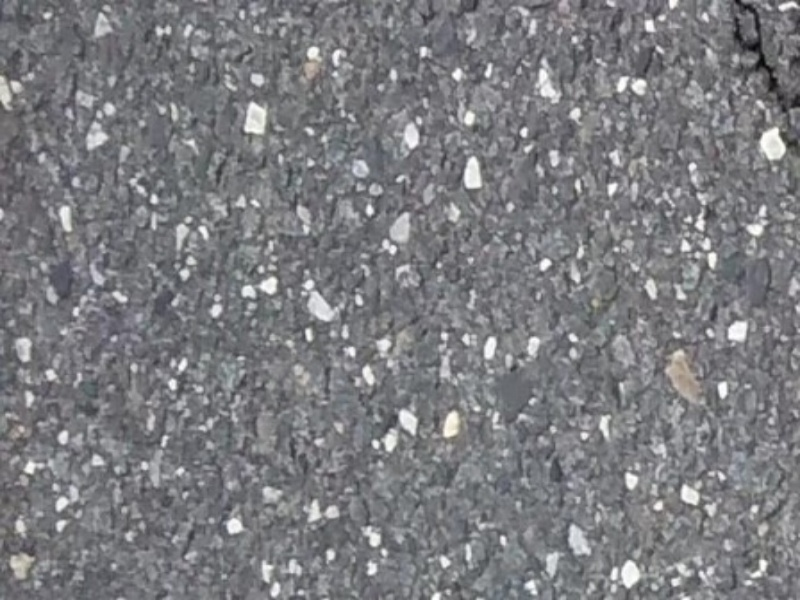crack: (722, 14, 798, 137)
